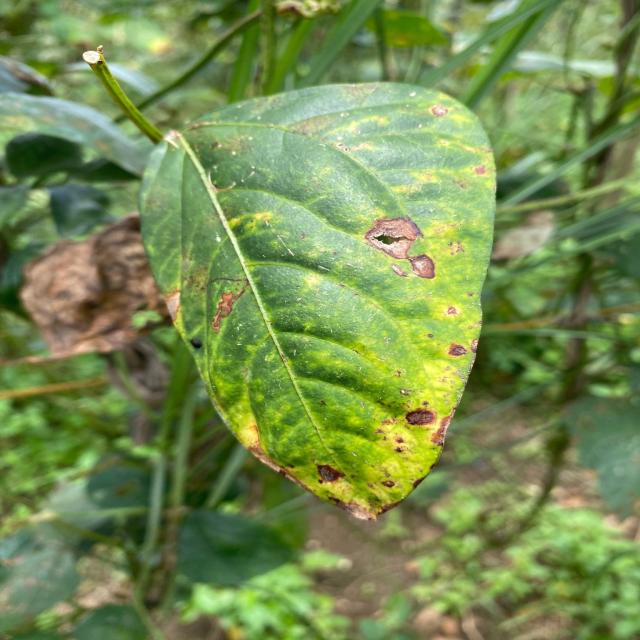sitaw-aphid-low: (141, 83, 495, 519)
